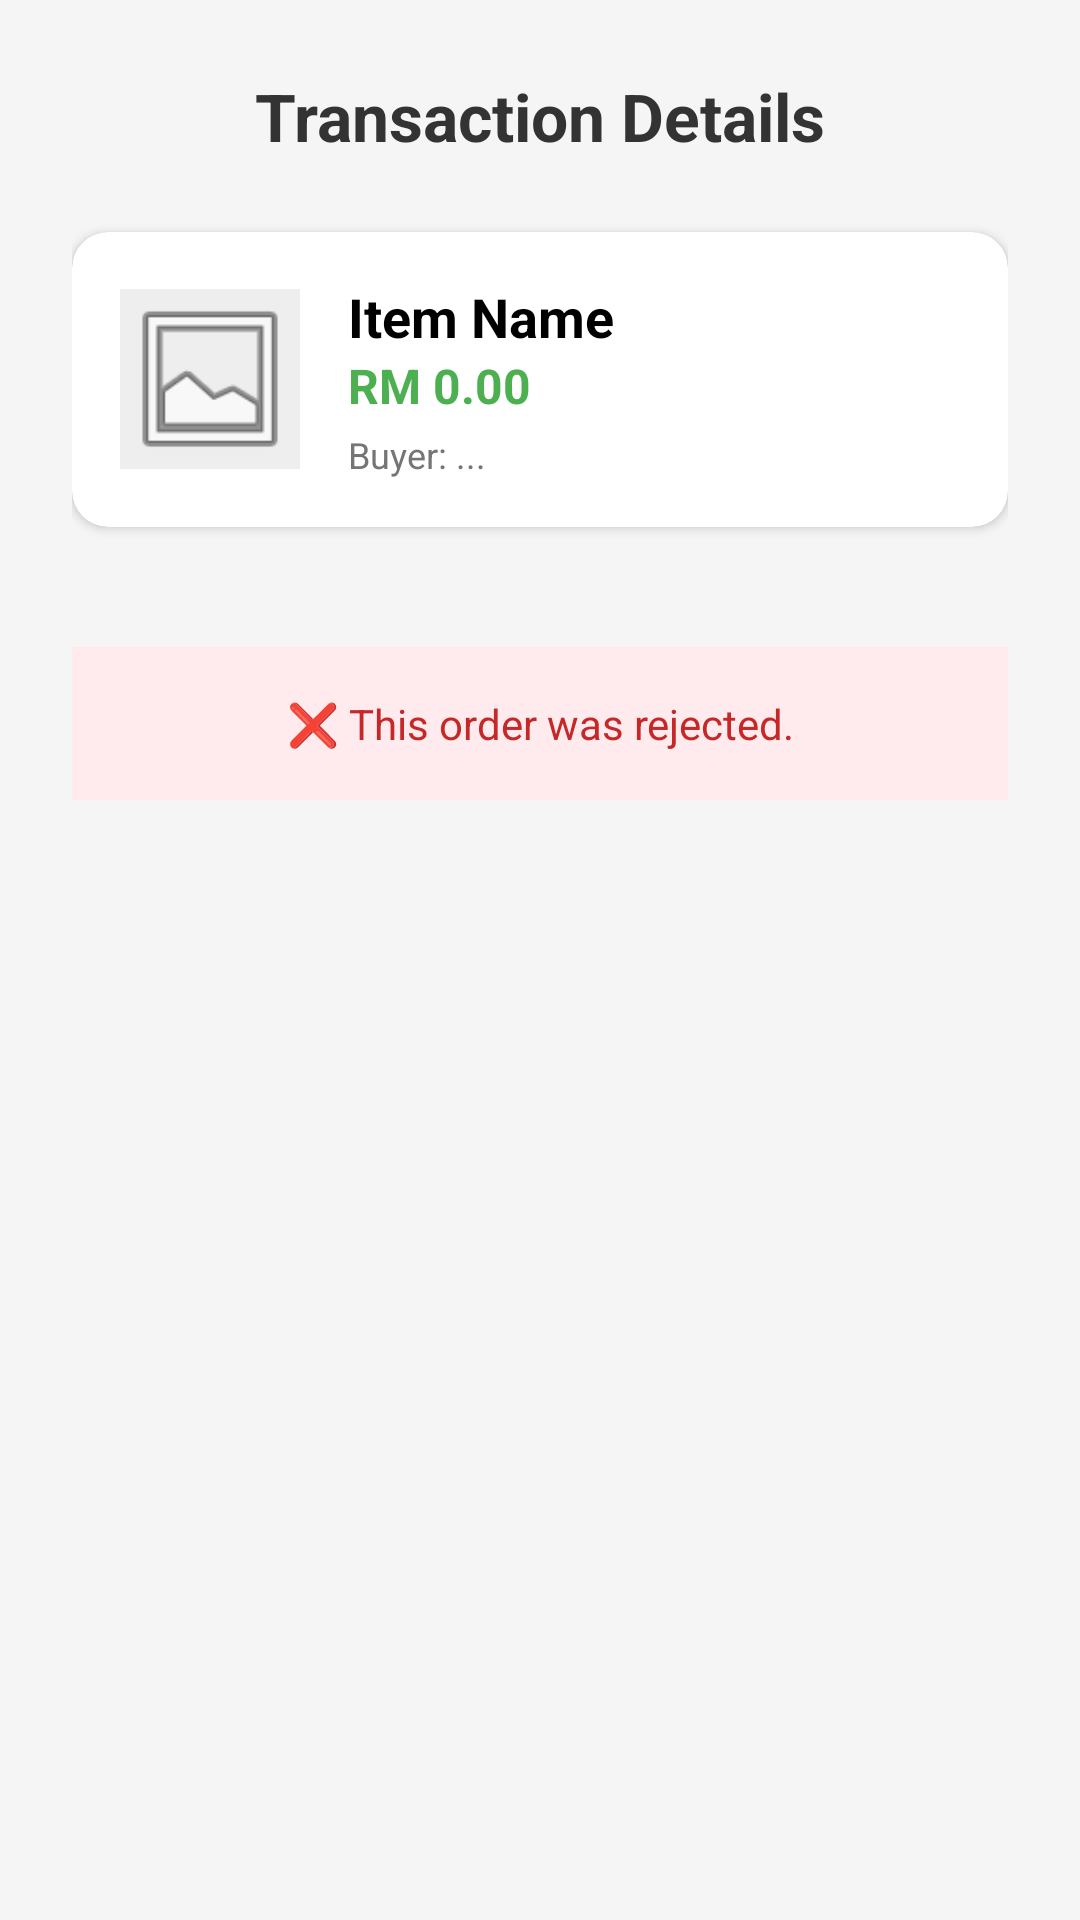

Screen size 1080px×1920px. Icon name, then its box in pixels as bbox=[x1, y1, x2, y2]:
gallery: bbox=[120, 289, 300, 469]
